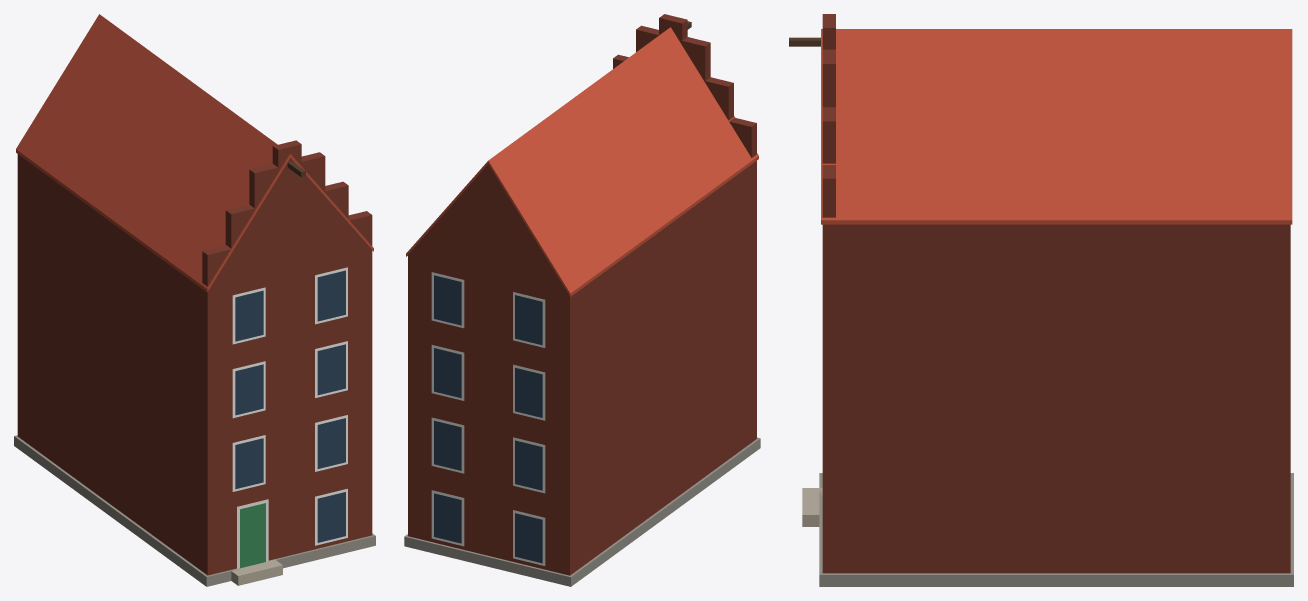
The model's file is maison_canal.glb.
3 renders of one model, left to right at view 1: azimuth 30°, elevation 25°; view 2: azimuth 150°, elevation 25°; view 3: azimuth 270°, elevation 25°, orthographic. The views are drawn at different scales.
Visible parts, largest first — view 1: maison_canal; view 2: maison_canal; view 3: maison_canal.
Boxes of the visible parts, left/top/right/bottom form: maison_canal: left=14, top=14, right=375, bottom=586; maison_canal: left=404, top=14, right=760, bottom=586; maison_canal: left=789, top=14, right=1293, bottom=586.
Bounding box in the file's own units: 7.2 × 17 × 15.1.
Materials: 1 (1 with a texture image).
